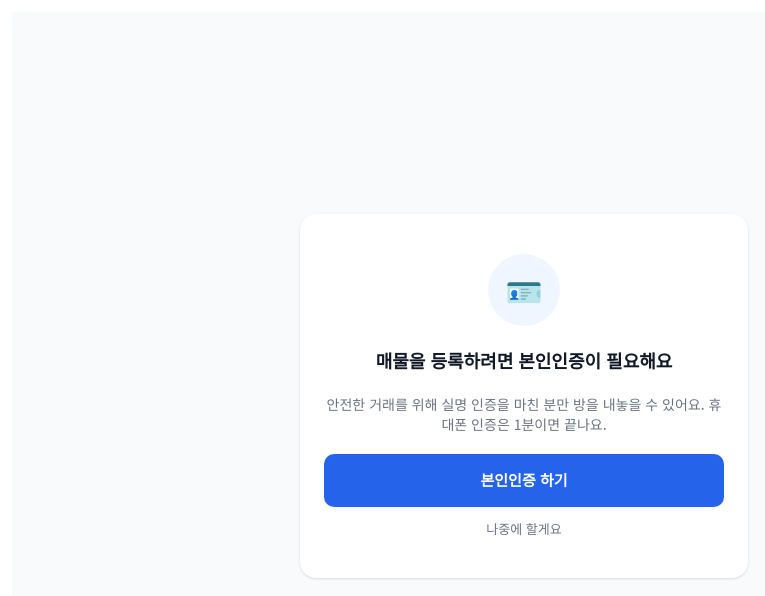
Test case: IdentityGate › opens the wizard once the verification succeeds
What coordinates should you click on to do the following:
click the button "본인인증 하기"
I would click on:
 (524, 480)
Its box is [324,454,724,506].
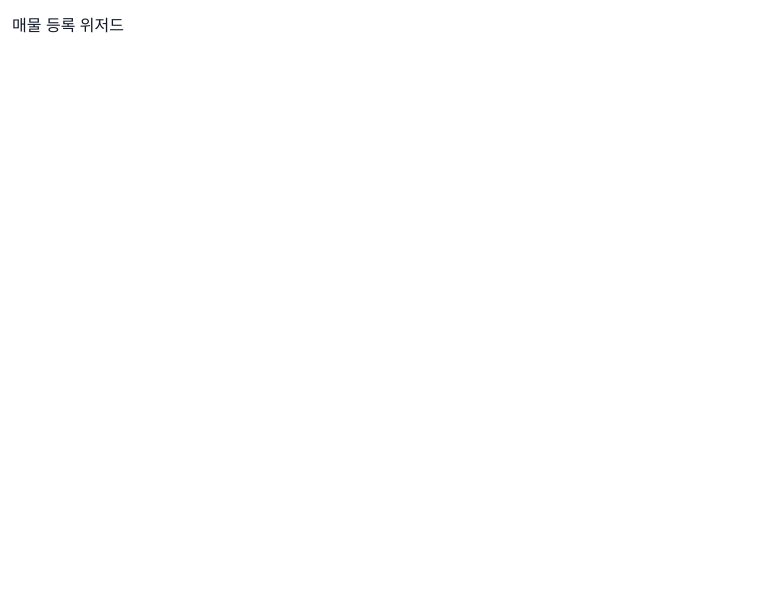
Check: the text "매물 등록 위저드" is shown, box [12,12,124,36]
